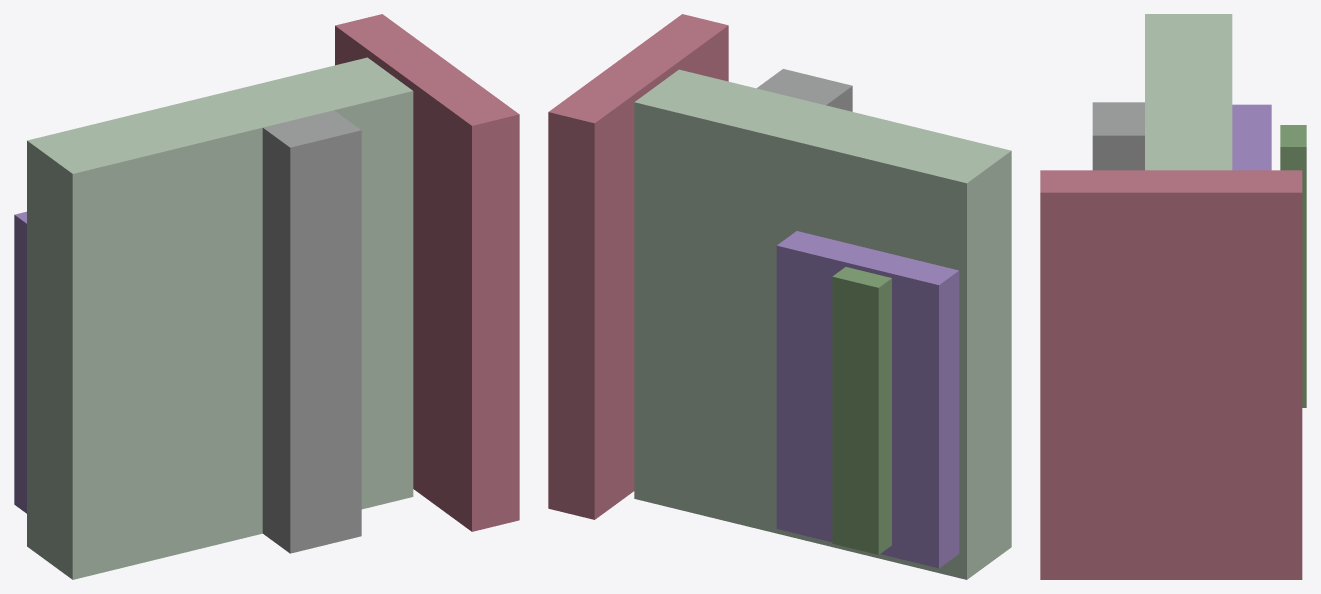
The picture shows the model from 3 angles, left to right: view 1: azimuth 30°, elevation 25°; view 2: azimuth 150°, elevation 25°; view 3: azimuth 270°, elevation 25°; orthographic projection. The views are drawn at different scales.
Visible parts, largest first — view 1: world; view 2: world; view 3: world.
Boxes of the visible parts, left/top/right/bottom form: world: left=14, top=14, right=519, bottom=579; world: left=548, top=14, right=1011, bottom=579; world: left=1040, top=14, right=1306, bottom=579.
Size of the model in its own units: 4.95 by 4.95 by 3.05.
